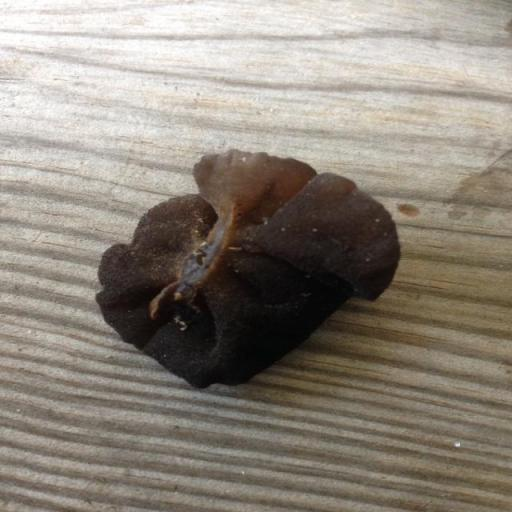Wood Ear Mushroom: (93, 149, 402, 388)
